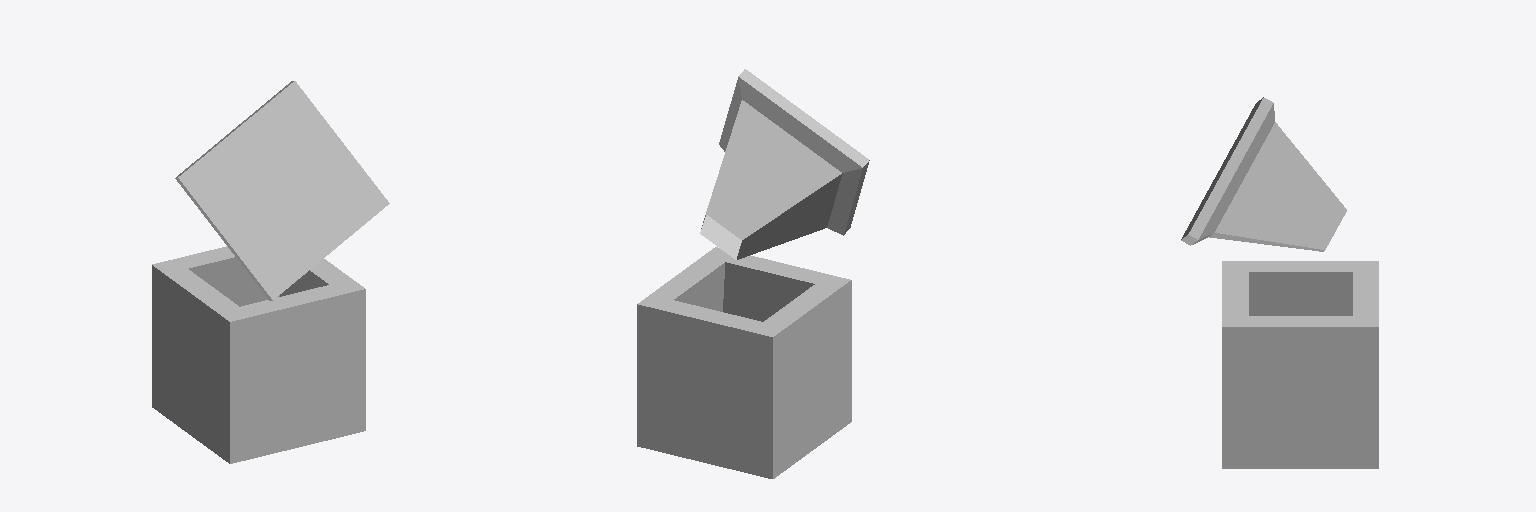
File: AnimatedBox_000023.obj
3 views of the same model, side by side, from view 1: azimuth 30°, elevation 25°; view 2: azimuth 150°, elevation 25°; view 3: azimuth 270°, elevation 25° (orthographic).
Parts seen in each view (by area): view 1: Cube, Cube.001; view 2: Cube, Cube.001; view 3: Cube, Cube.001.
Boxes of the visible parts, <box> form: Cube: <box>152,246,365,463</box>; Cube.001: <box>175,81,389,300</box>; Cube: <box>637,247,851,478</box>; Cube.001: <box>700,69,869,259</box>; Cube: <box>1222,261,1378,468</box>; Cube.001: <box>1181,97,1346,251</box>.
Bounding box in the file's own units: 2.65 × 4.89 × 2.53.